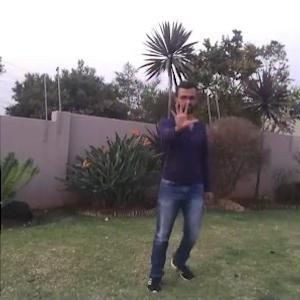follow_hand: (166, 98, 200, 132)
